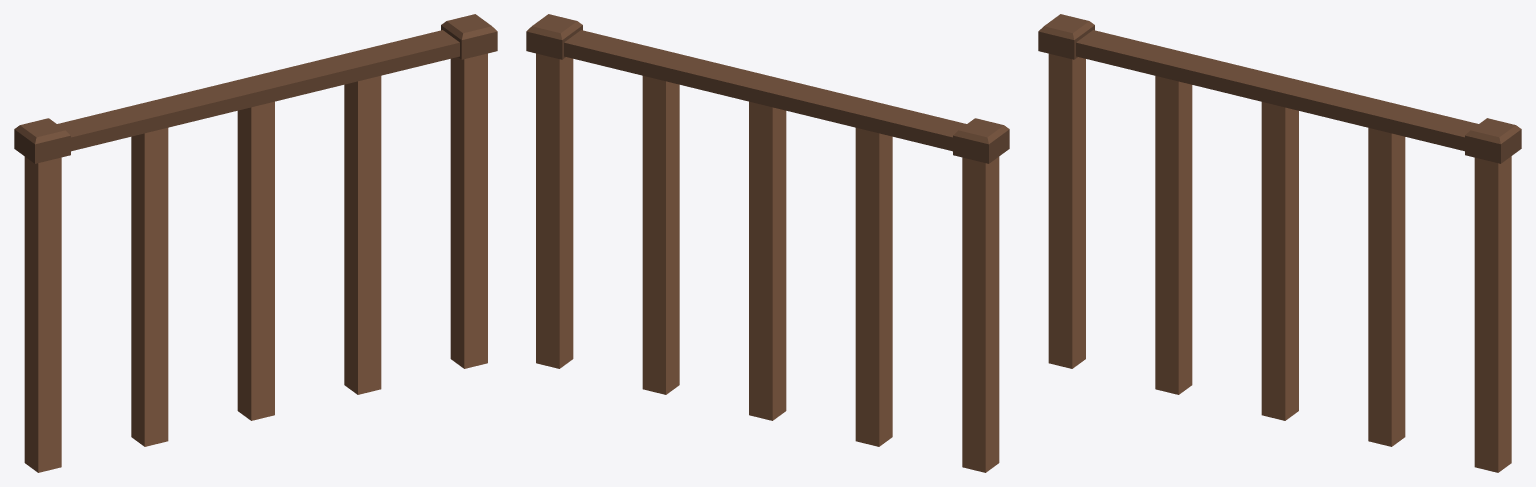
File: StairsPart1_C1.fbx
3 views of the same model, side by side, from view 1: azimuth 30°, elevation 25°; view 2: azimuth 150°, elevation 25°; view 3: azimuth 330°, elevation 25° (orthographic).
Parts seen in each view (by area): view 1: StairsPart1_C1; view 2: StairsPart1_C1; view 3: StairsPart1_C1.
Boxes of the visible parts, x1,y1,x2,y2 form: StairsPart1_C1: (14,14,497,472); StairsPart1_C1: (526,14,1009,472); StairsPart1_C1: (1038,14,1521,472).
Size of the model in its own units: 142 by 98.99 by 11.02.
